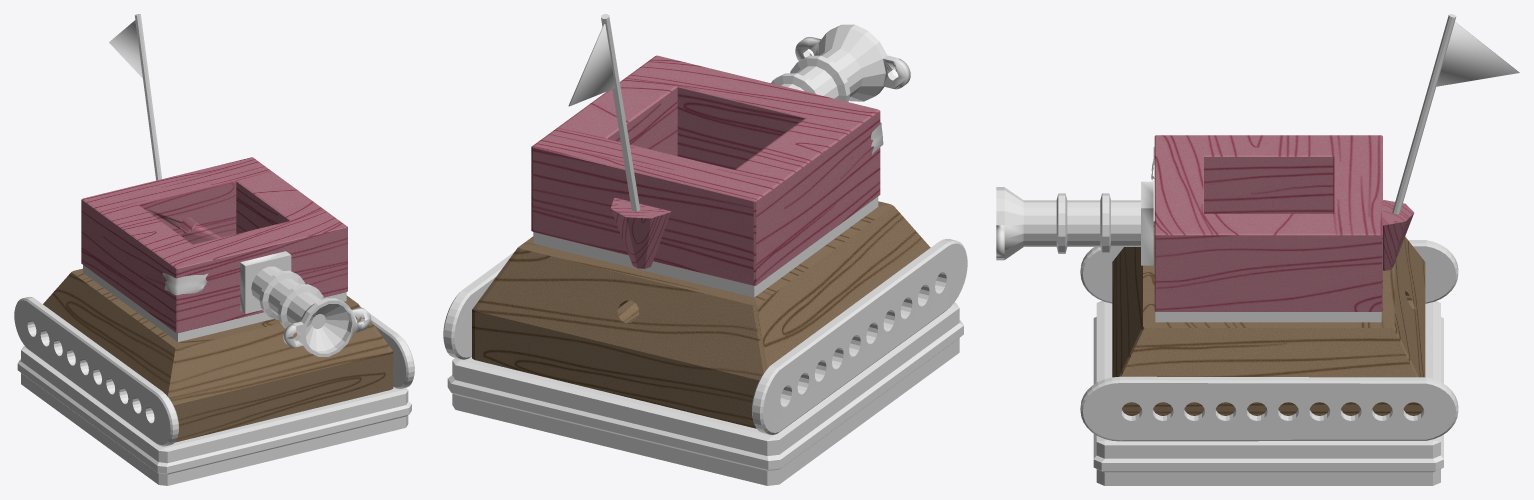
File: guardian3_fixed.fbx
3 renders of one model, left to right at view 1: azimuth 30°, elevation 25°; view 2: azimuth 150°, elevation 25°; view 3: azimuth 270°, elevation 25°, orthographic. The views are drawn at different scales.
Parts seen in each view (by area): view 1: center, base, revolver, tracks, turret, revolver small, flag_pole, flag, tape; view 2: center, base, revolver, tracks, turret, revolver small, flag_base, flag, flag_pole; view 3: center, base, tracks, revolver, turret, flag, revolver small, flag_pole, flag_base.
Part boxes in pixels (box(x1,y1,x2,y2)): center: box(81, 157, 347, 333); base: box(43, 268, 393, 442); revolver: box(17, 346, 411, 485); tracks: box(14, 297, 414, 446); turret: box(240, 251, 371, 356); revolver small: box(83, 265, 346, 341); flag_pole: box(134, 14, 161, 180); flag: box(109, 20, 142, 78); tape: box(162, 272, 208, 295); center: box(531, 55, 880, 285); base: box(472, 201, 930, 428); revolver: box(447, 302, 963, 485); tracks: box(443, 238, 967, 434); turret: box(771, 24, 910, 101); revolver small: box(533, 196, 878, 297); flag_base: box(610, 197, 670, 268); flag: box(568, 24, 615, 106); flag_pole: box(601, 14, 639, 211); center: box(1154, 135, 1382, 311); base: box(1112, 221, 1425, 415); tracks: box(1080, 240, 1458, 441); revolver: box(1093, 301, 1443, 485); turret: box(996, 181, 1153, 265); flag: box(1436, 22, 1519, 86); revolver small: box(1155, 312, 1381, 322); flag_pole: box(1392, 14, 1456, 214); flag_base: box(1383, 200, 1414, 270).
Bounding box in the file's own units: 896 × 1129 × 1337.
Materials: 1 (1 with a texture image).
